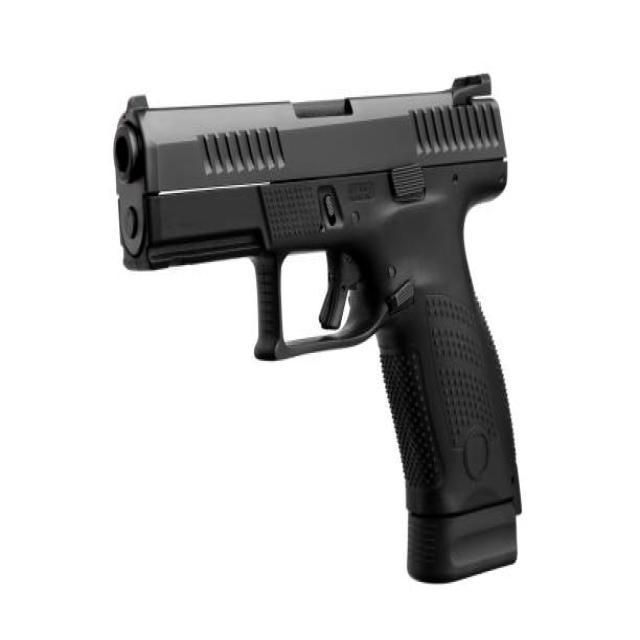pistol: (101, 58, 539, 596)
